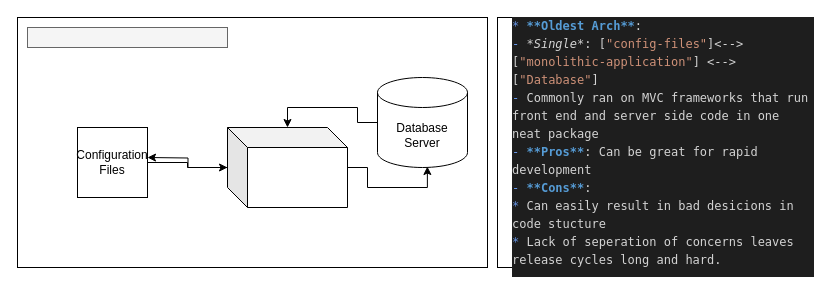
This 835x295 diagram has some shape labels left out. Here are the shapes that lost their labels. From the top down, the centre of each, then its label:
At [127,37]: "traditional-monolith".
At [287,167]: "Application Server".
